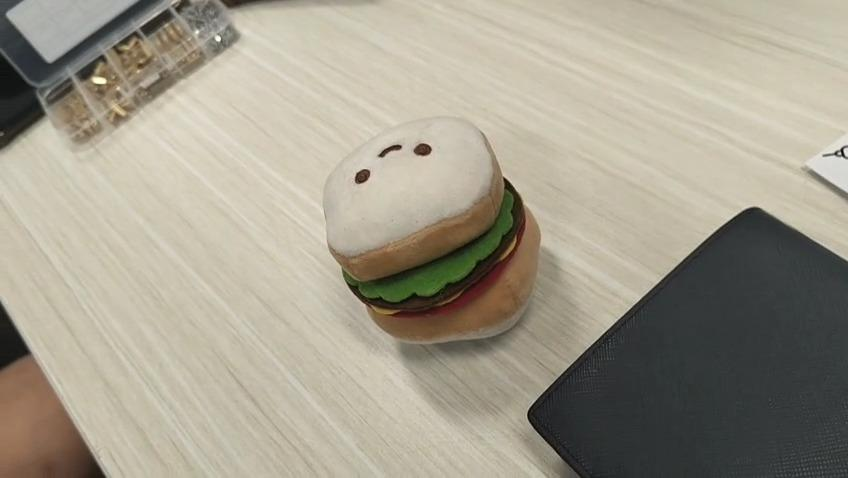objects: (319, 126, 543, 346)
